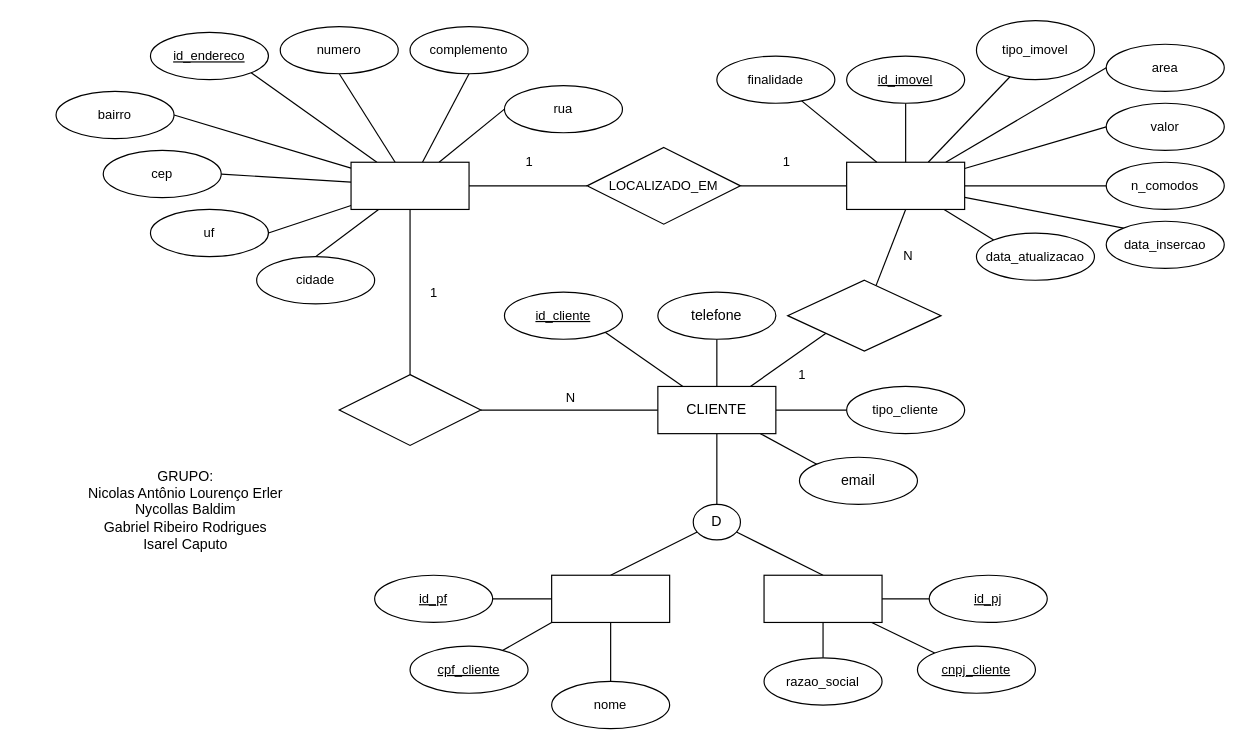
The diagram is 1245 pixels wide and 749 high, and some of its shapes have lost their labels. Each missing label, with the box of its shape:
EH_DONO_DE: (786, 279, 941, 351)
ENDERECO: (350, 161, 469, 209)
IMOVEL: (845, 161, 965, 209)
PF: (550, 574, 670, 622)
PJ: (763, 574, 882, 622)
RESIDE_EM: (338, 373, 481, 445)
